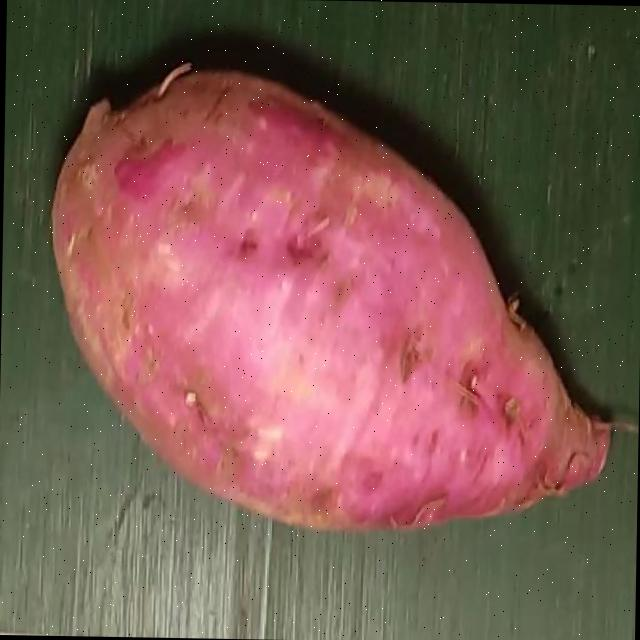Sweet Potato: (47, 63, 611, 531)
